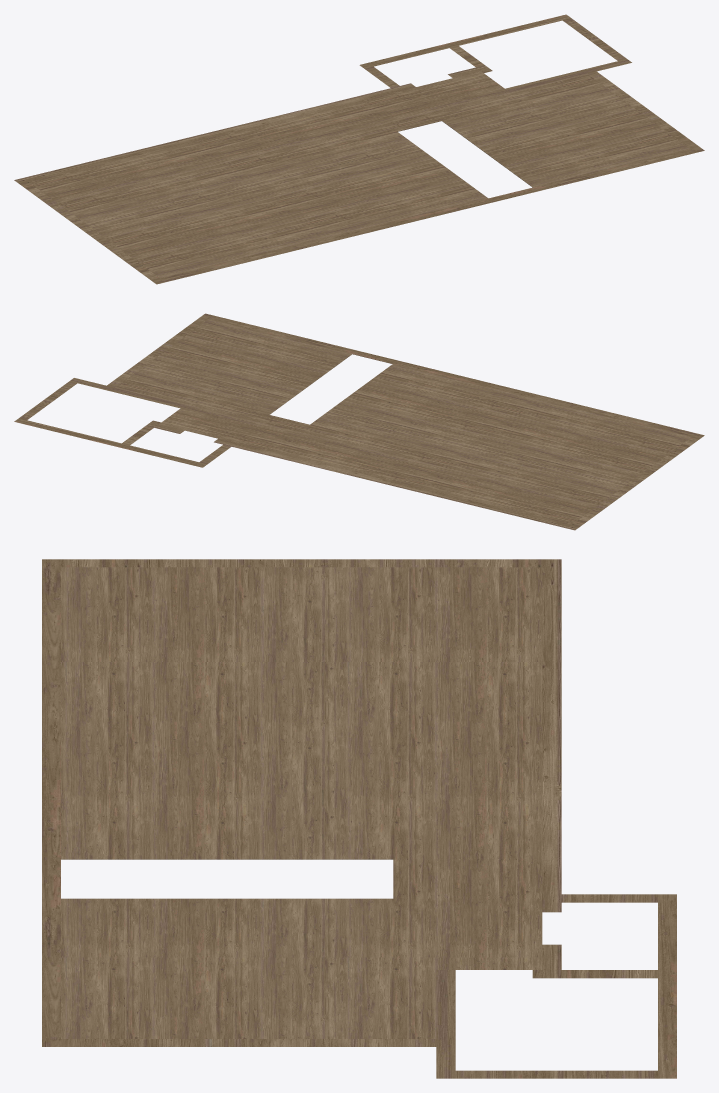
The model's file is javanovaDefoult2.gltf.
3 renders of one model, top to bottom at view 1: azimuth 30°, elevation 25°; view 2: azimuth 150°, elevation 25°; view 3: azimuth 270°, elevation 25°, orthographic. The views are drawn at different scales.
Visible parts, largest first — view 1: javanovaDefoult2; view 2: javanovaDefoult2; view 3: javanovaDefoult2.
Boxes of the visible parts, left/top/right/bottom form: javanovaDefoult2: left=14, top=14, right=704, bottom=284; javanovaDefoult2: left=14, top=313, right=704, bottom=530; javanovaDefoult2: left=42, top=559, right=676, bottom=1078.
Size of the model in its own units: 8.94 by 0.00398 by 4.62.
1 material, 1 textured.
